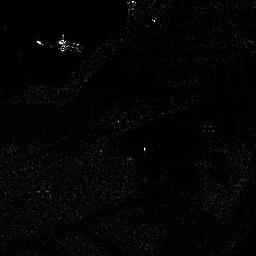ship: (36, 35, 83, 55)
